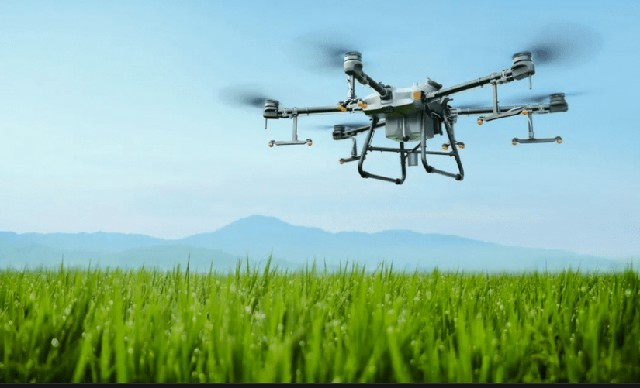maybay_khongnguoilai: (234, 32, 567, 199)
